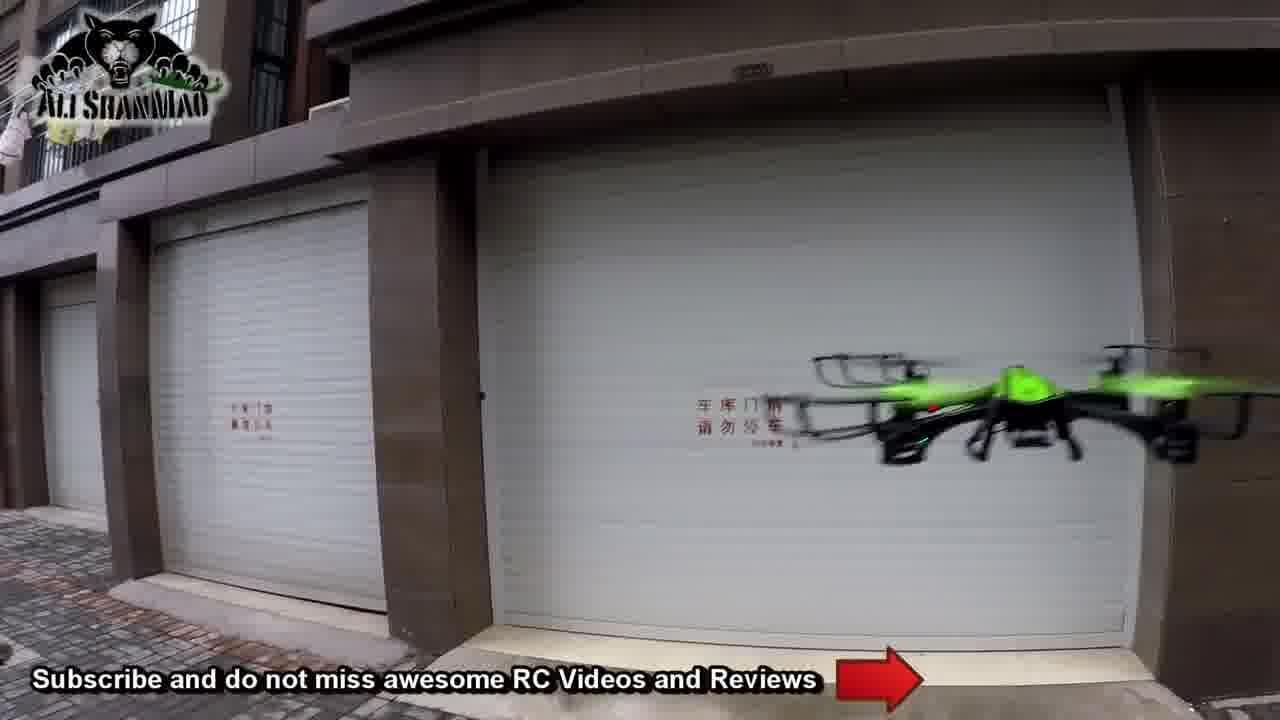drone: (760, 333, 1279, 472)
